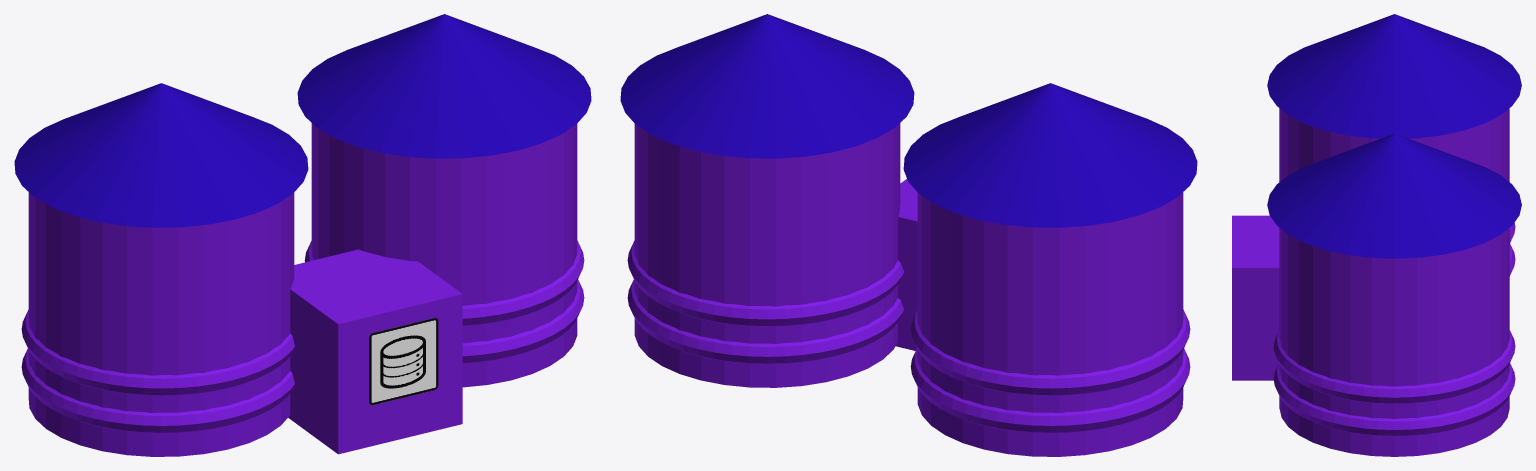
Rendered from storage.fbx.
3 views of the same model, side by side, from view 1: azimuth 30°, elevation 25°; view 2: azimuth 150°, elevation 25°; view 3: azimuth 270°, elevation 25° (orthographic). The views are drawn at different scales.
Parts seen in each view (by area): view 1: Cylinder, Cylinder.001, Cone.001, Cone, Cube, Torus.001, Torus, Plane, Torus.002, Torus.003; view 2: Cylinder, Cylinder.001, Cone.001, Cone, Torus.001, Torus, Torus.002, Torus.003, Cube; view 3: Cylinder.001, Cone.001, Cone, Cube, Cylinder, Torus.002, Torus.003.
Boxes of the visible parts, x1,y1,x2,y2 form: Cylinder: (28,192,294,456); Cylinder.001: (311,123,577,387); Cone.001: (297,14,591,158); Cone: (14,83,308,227); Cube: (288,249,462,454); Torus.001: (21,309,294,395); Torus: (21,348,294,433); Plane: (369,318,438,405); Torus.002: (304,240,584,325); Torus.003: (462,279,584,363); Cylinder: (917,192,1183,456); Cylinder.001: (634,123,900,387); Cone.001: (620,14,914,158); Cone: (903,83,1197,227); Torus.001: (910,309,1190,395); Torus: (910,348,1190,433); Torus.002: (627,240,903,326); Torus.003: (627,279,903,364); Cube: (896,179,917,350); Cylinder.001: (1279,228,1509,456); Cone.001: (1267,133,1521,258); Cone: (1267,14,1521,138); Cube: (1232,215,1279,380); Cylinder: (1279,108,1509,181); Torus.002: (1273,330,1515,403); Torus.003: (1273,363,1515,436).
Size of the model in its own units: 2212 by 1268 by 1218.
